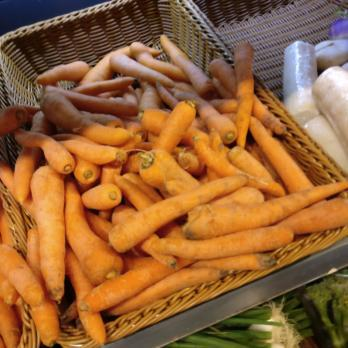Carrot: (114, 120, 281, 275), (12, 119, 111, 343), (40, 50, 185, 118), (272, 145, 348, 233)
